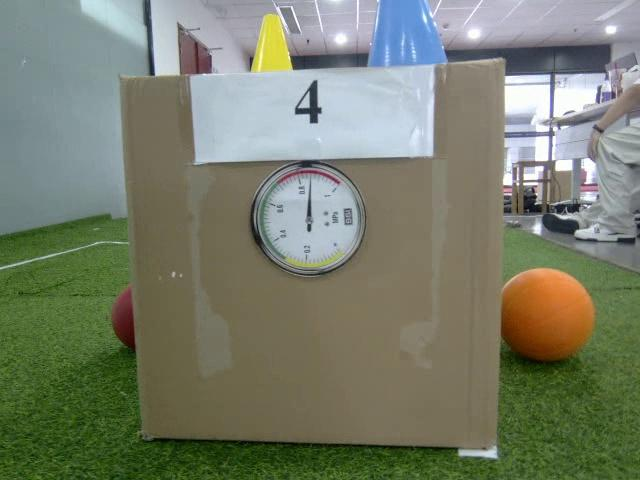4: (297, 80, 326, 126)
Dashboard: (254, 164, 367, 276)
blue_barrel: (363, 1, 450, 67)
orange_ball: (502, 267, 596, 364)
red_ball: (109, 283, 134, 351)
ssi: (339, 206, 355, 226)
yellow_barrel: (249, 11, 293, 75)
